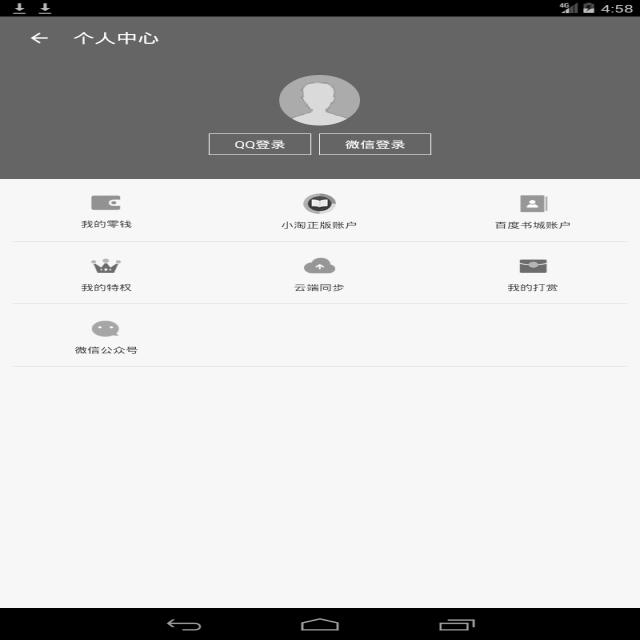ImageButton: (17, 33, 57, 43)
ImageView: (272, 68, 367, 128), (270, 184, 366, 222), (484, 188, 582, 224), (275, 252, 375, 285), (64, 188, 159, 221), (498, 250, 572, 278), (77, 258, 141, 284), (80, 313, 130, 341)
TextView: (70, 25, 175, 48), (214, 131, 303, 154), (328, 137, 434, 153)
